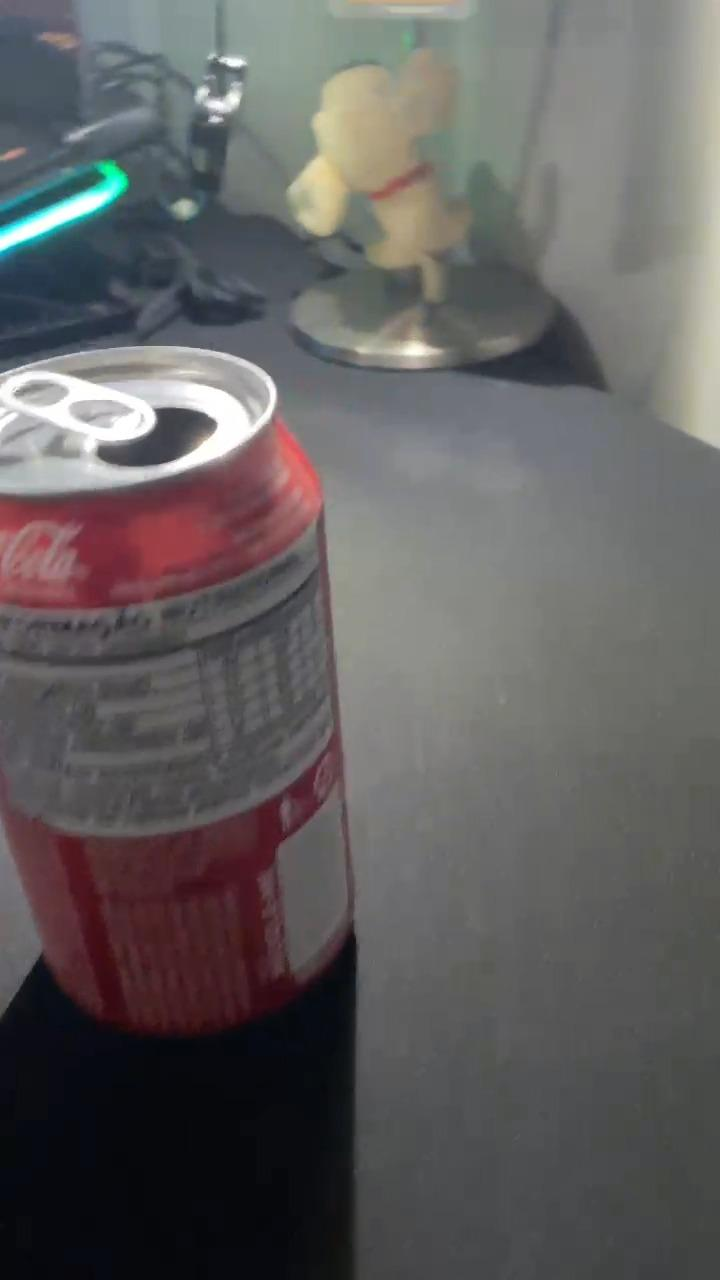coke: (3, 352, 358, 1039)
